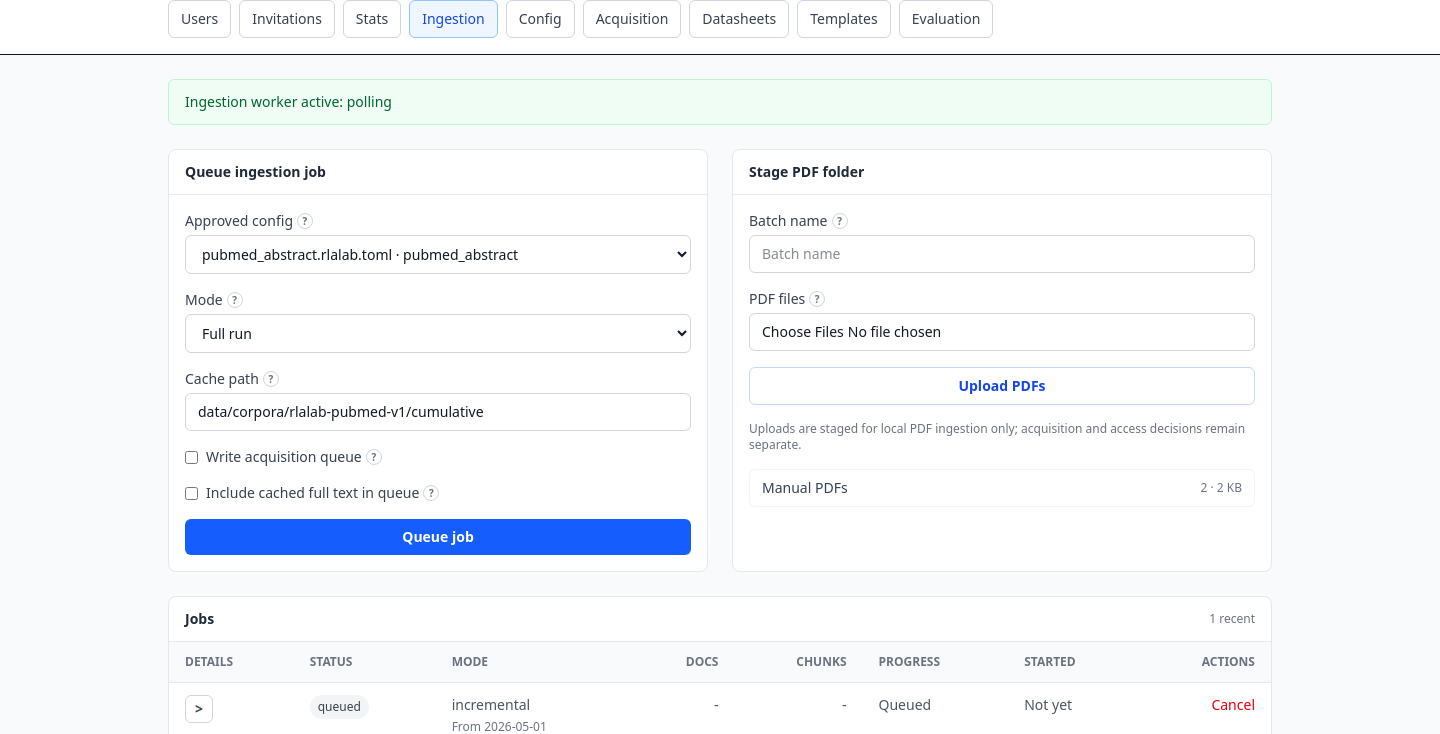
it: AdminIngestionClient › shows incremental from date and job-specific cache path in expanded details
This screenshot has width=1440, height=734.
expect the text "incremental" is shown: met, box [452,695,530,714]
expect the text "From 2026-05-01" is shown: met, box [452,718,547,733]
Click the button named "Expand job details" at (199, 709), box [185,695,213,723]
(page scrolled)
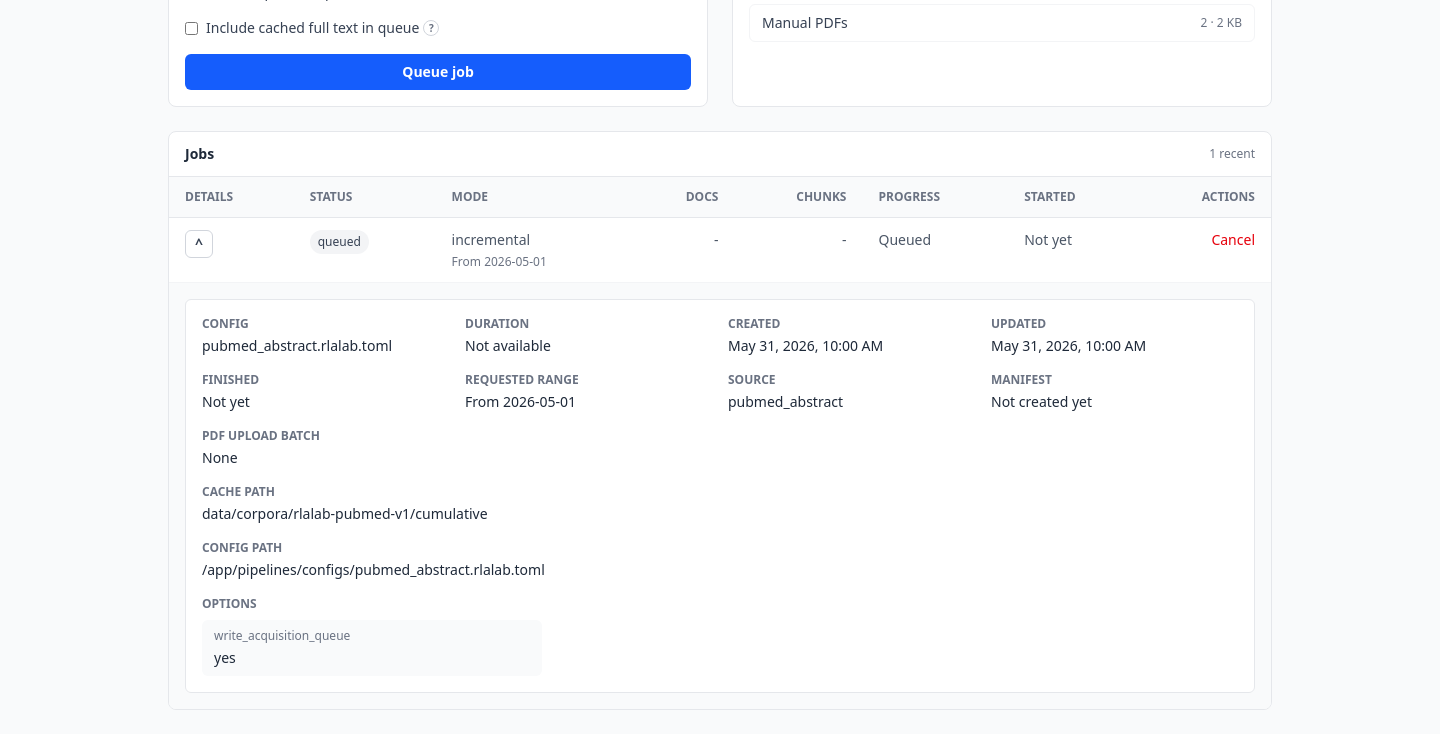
expect the text "From 2026-05-01" below "incremental" is shown: met, box [452,253,547,270]
expect the text "Requested range" is shown: met, box [465,371,579,388]
expect the text "data/corpora/rlalab-pubmed-v1/cumulative" is shown: met, box [202,504,488,523]
